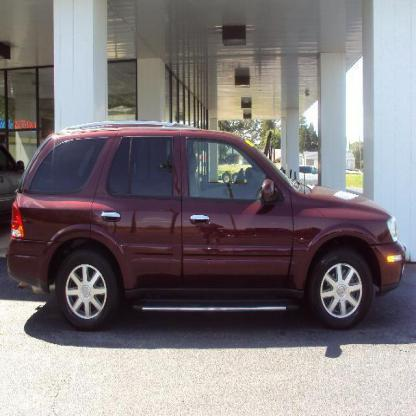car: (7, 122, 409, 335)
